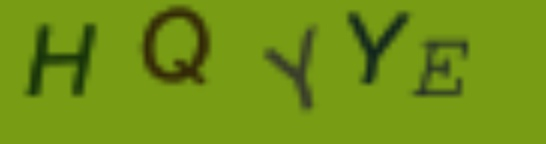E: (411, 35, 477, 101)
H: (19, 18, 101, 100)
Q: (140, 4, 216, 88)
Y: (338, 8, 420, 88), (262, 23, 326, 115)
